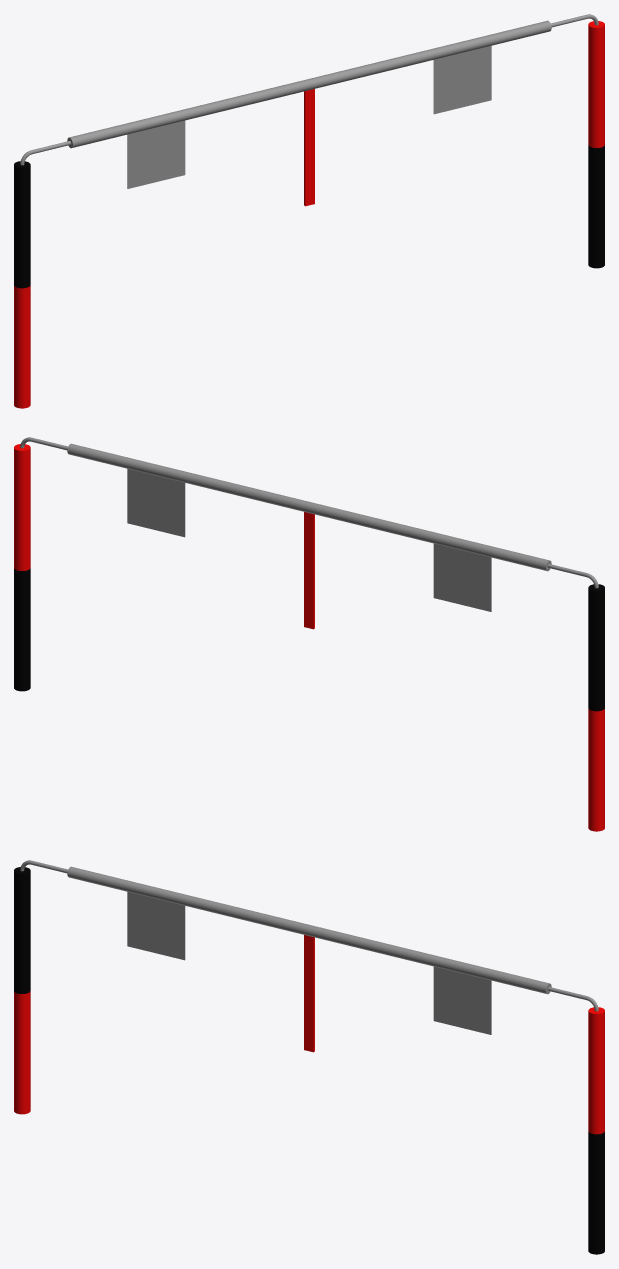
The model's file is Gate.dae.
The picture shows the model from 3 angles, top to bottom: view 1: azimuth 30°, elevation 25°; view 2: azimuth 150°, elevation 25°; view 3: azimuth 330°, elevation 25°; orthographic projection.
Visible parts, largest first — view 1: 68adcdfa5e3aae2d46dc461b (×6); view 2: 68adcdfa5e3aae2d46dc461b (×6); view 3: 68adcdfa5e3aae2d46dc461b (×6).
Part boxes in pixels (x1,y1,x2,y2): 68adcdfa5e3aae2d46dc461b (×6): [14, 14, 604, 408]; 68adcdfa5e3aae2d46dc461b (×6): [14, 437, 604, 831]; 68adcdfa5e3aae2d46dc461b (×6): [14, 860, 604, 1254].
Size of the model in its own units: 3.12 by 0.0759 by 1.3.
